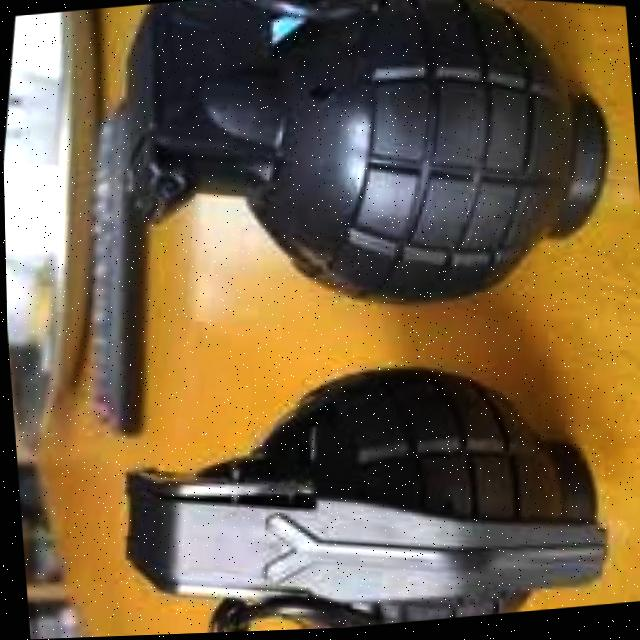grenade: (96, 0, 629, 359)
